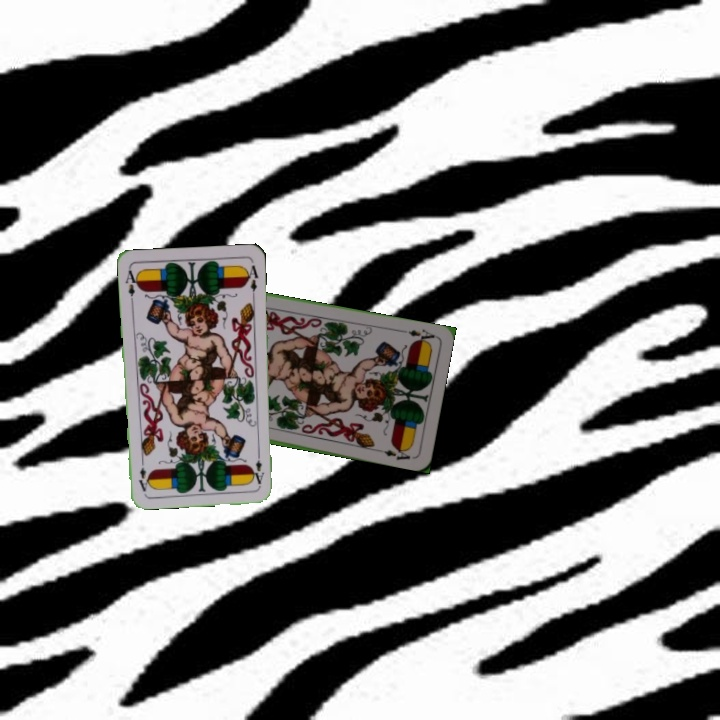EA: (398, 325, 437, 346), (121, 265, 141, 305), (251, 447, 267, 486)
